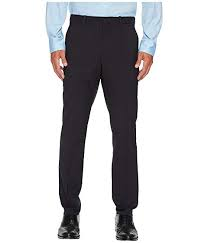F_belt: (66, 13, 141, 33)
F_dress pants: (59, 24, 143, 217)
